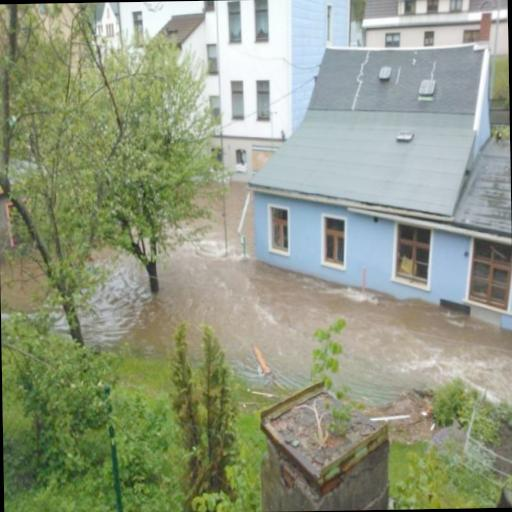flood: (80, 183, 512, 405), (0, 260, 44, 313)
house: (278, 40, 512, 321), (219, 0, 343, 134), (359, 0, 508, 51), (100, 2, 122, 46)
